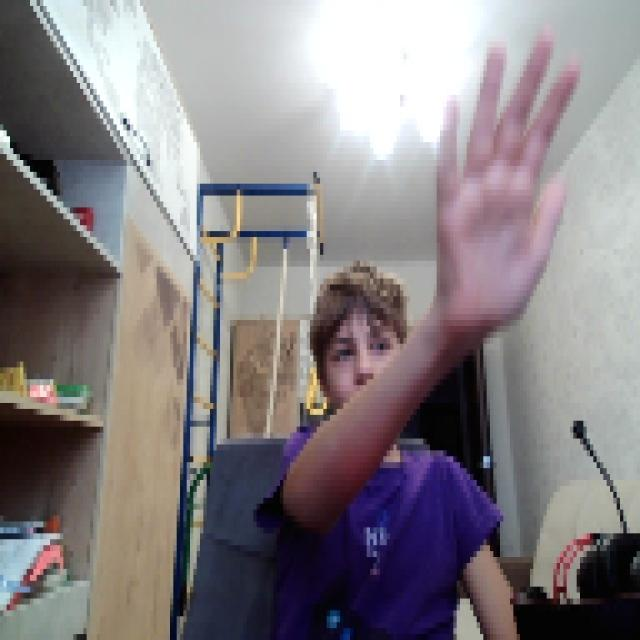hand: (433, 18, 577, 332)
